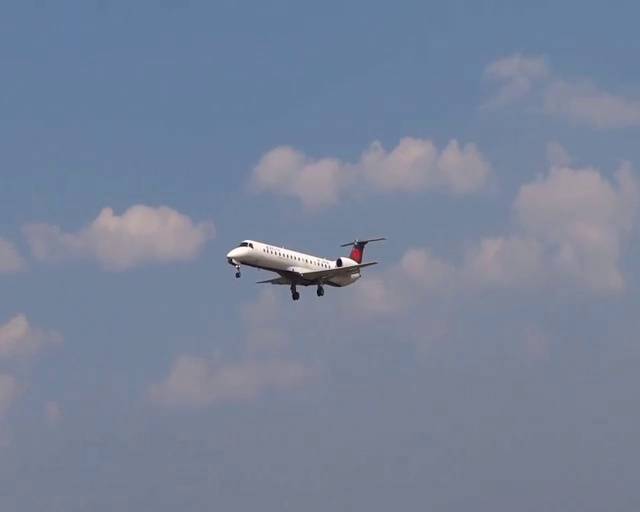AIRPLANE: (225, 234, 387, 299)
